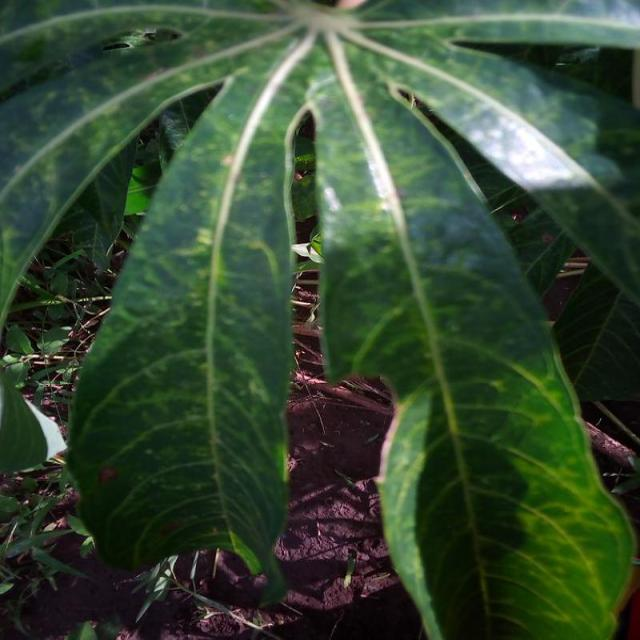cassava leaf: (1, 1, 638, 636), (308, 32, 637, 637), (62, 39, 304, 598)
